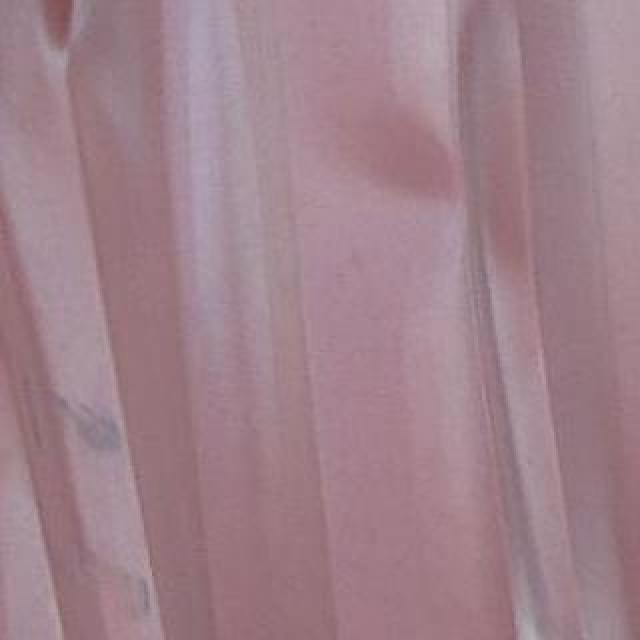dent: (387, 1, 613, 640)
